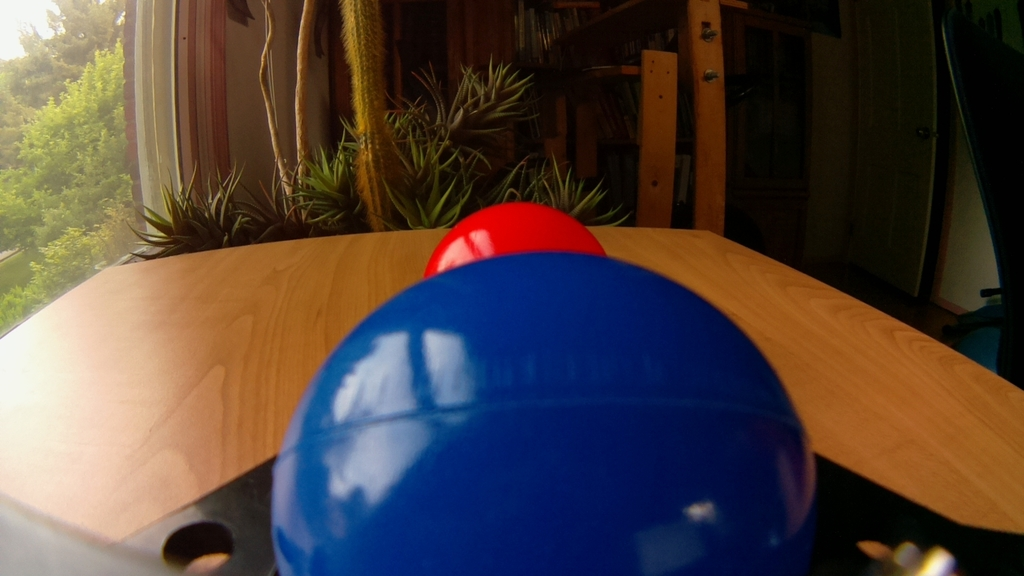ball: (269, 249, 818, 576)
